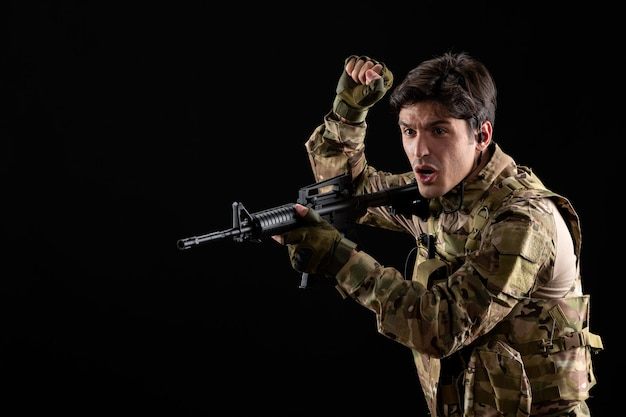gun: (179, 172, 425, 294)
